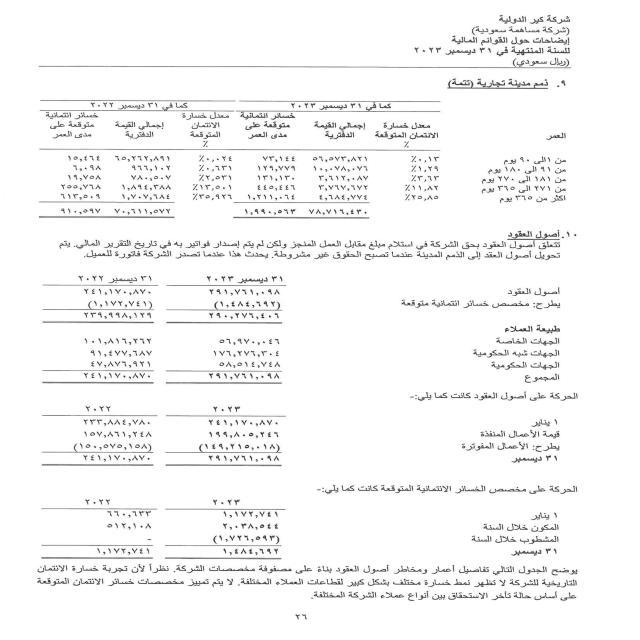notes: (438, 35, 573, 48)
table: (21, 94, 450, 233), (42, 271, 297, 396), (32, 484, 293, 560), (42, 400, 286, 478)
